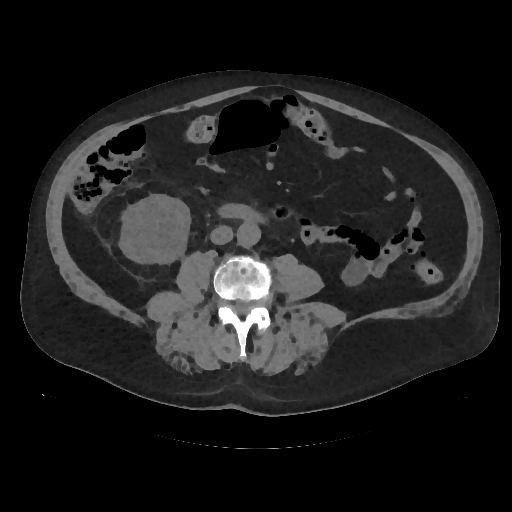Lesion: (112, 202, 186, 266)
